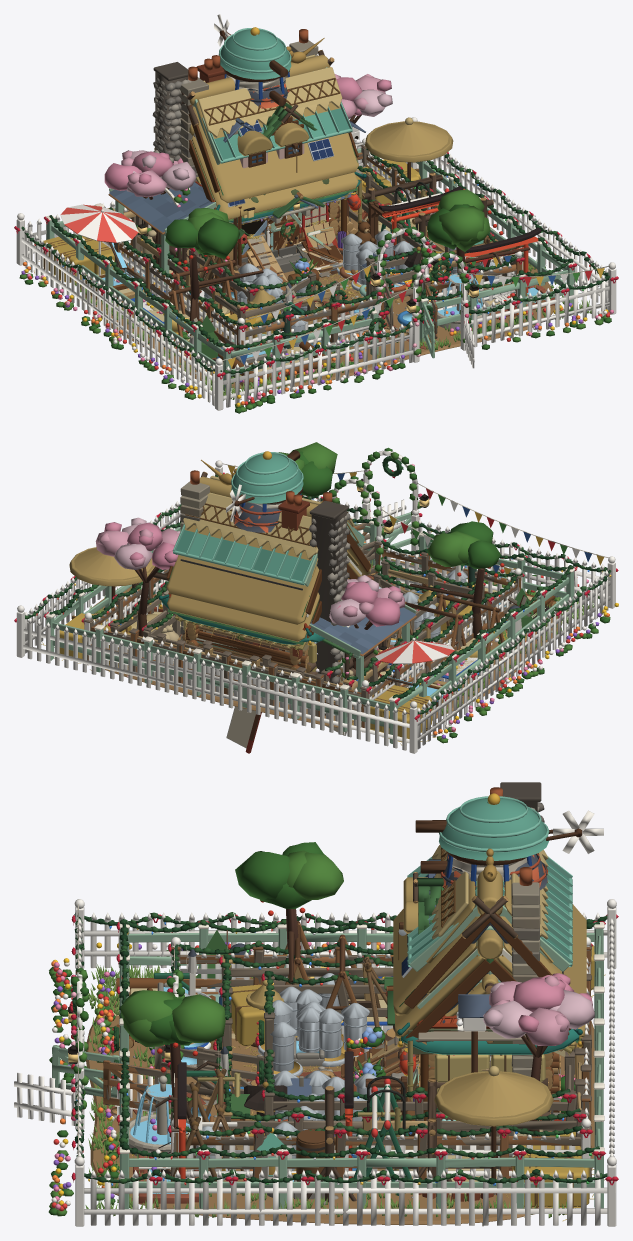
The model's file is coops.glb.
The picture shows the model from 3 angles, top to bottom: view 1: azimuth 30°, elevation 25°; view 2: azimuth 150°, elevation 25°; view 3: azimuth 270°, elevation 25°; orthographic projection. The views are drawn at different scales.
Visible parts, largest first — view 1: fence_t4, deluxe_orp, fence_t3, deluxe_bra, fence_dx, pen_t4_orp, pen_t4_bra, pen_t4, pen_t3_leg, deluxe_pol, pen_t4_leg, xmas_fence_t4 (+29 smaller); view 2: fence_t4, deluxe_orp, fence_t3, deluxe_bra, fence_dx, deluxe_rir, deluxe_sil, pen_t3_leg, fence_rustic, deluxe_pol, fence_t1, cosy_sil (+27 smaller); view 3: fence_t4, fence_t3, pen_t4_orp, pen_t4_leg, deluxe_orp, deluxe_pol, deluxe_sil, pen_t4_bra, pen_t3_leg, xmas_fence_t3, fence_t1, fence_dx (+33 smaller).
Part boxes in pixels (bbox=[...]): fence_t4: bbox=[16, 117, 616, 413]; deluxe_orp: bbox=[154, 38, 436, 340]; fence_t3: bbox=[46, 148, 574, 391]; deluxe_bra: bbox=[152, 50, 431, 344]; fence_dx: bbox=[102, 138, 522, 357]; pen_t4_orp: bbox=[52, 117, 587, 399]; pen_t4_bra: bbox=[80, 159, 589, 400]; pen_t4: bbox=[60, 168, 581, 392]; pen_t3_leg: bbox=[84, 187, 494, 345]; deluxe_pol: bbox=[214, 14, 435, 349]; pen_t4_leg: bbox=[34, 182, 590, 395]; xmas_fence_t4: bbox=[14, 152, 618, 379]; fence_t4: bbox=[16, 447, 618, 753]; deluxe_orp: bbox=[166, 459, 370, 671]; fence_t3: bbox=[45, 512, 575, 743]; deluxe_bra: bbox=[166, 471, 387, 700]; fence_dx: bbox=[84, 476, 522, 728]; deluxe_rir: bbox=[173, 522, 364, 663]; deluxe_sil: bbox=[95, 517, 374, 692]; pen_t3_leg: bbox=[158, 521, 536, 720]; fence_rustic: bbox=[83, 517, 522, 716]; deluxe_pol: bbox=[214, 450, 374, 651]; fence_t1: bbox=[110, 538, 484, 722]; cosy_sil: bbox=[160, 575, 405, 669]; fence_t4: bbox=[14, 899, 616, 1226]; fence_t3: bbox=[52, 922, 604, 1208]; pen_t4_orp: bbox=[86, 960, 593, 1220]; pen_t4_leg: bbox=[88, 965, 593, 1224]; deluxe_orp: bbox=[113, 845, 586, 1120]; deluxe_pol: bbox=[104, 793, 603, 1115]; deluxe_sil: bbox=[147, 973, 594, 1136]; pen_t4_bra: bbox=[86, 930, 594, 1224]; pen_t3_leg: bbox=[144, 842, 467, 1201]; xmas_fence_t3: bbox=[110, 919, 605, 1159]; fence_t1: bbox=[154, 956, 586, 1170]; fence_dx: bbox=[114, 937, 591, 1181].
Size of the model in its own units: 5.05 by 3.57 by 4.72.
